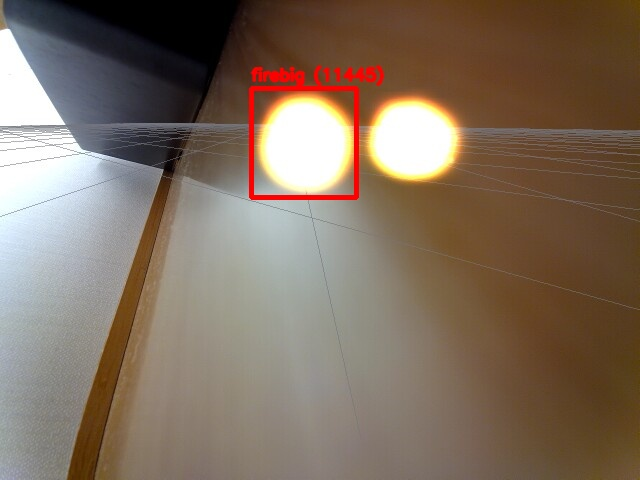firebig: (251, 88, 356, 197)
